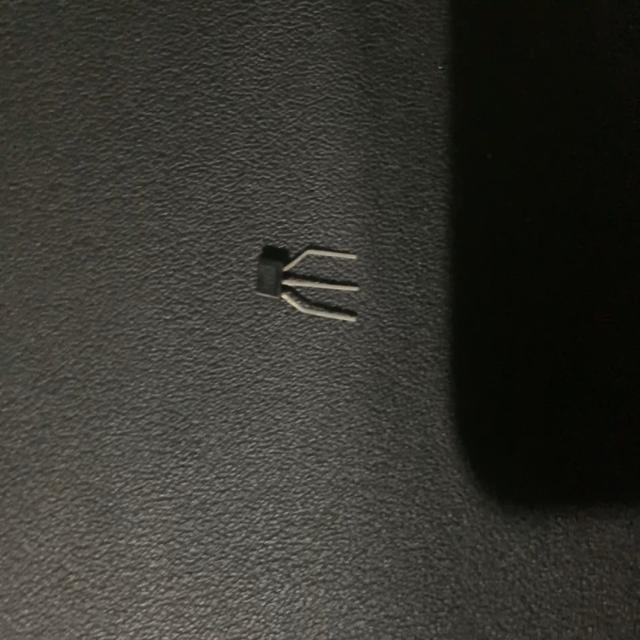BJT: (252, 240, 360, 330)
